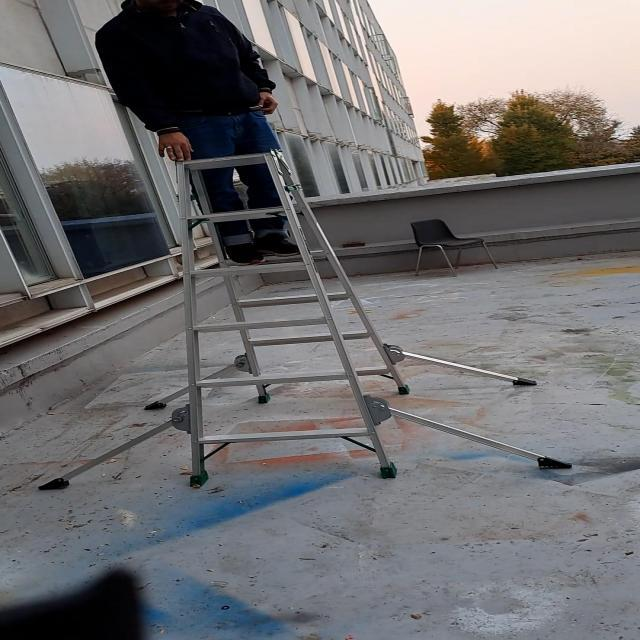boots: (0, 144, 578, 494)
